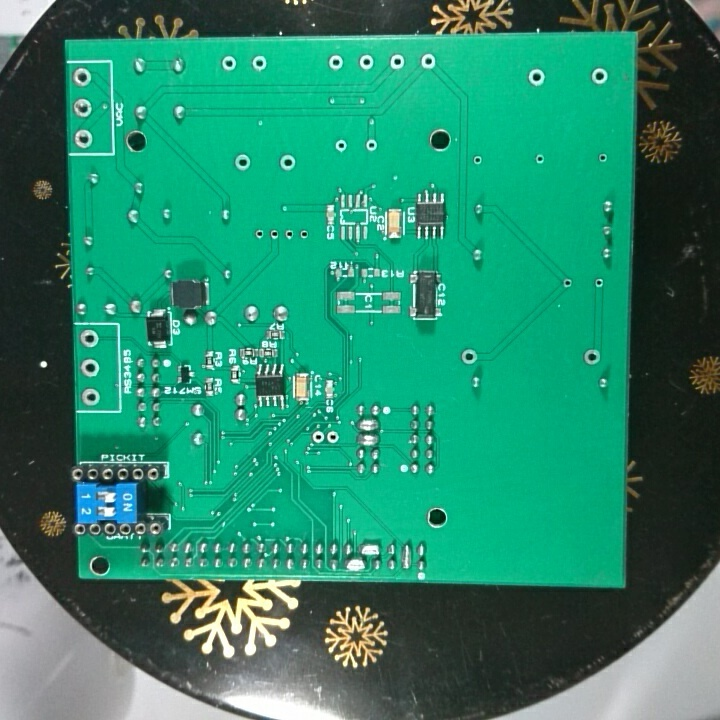F: (70, 64, 94, 89), (72, 126, 96, 151), (71, 95, 94, 121), (79, 385, 104, 408), (524, 66, 548, 89), (78, 327, 102, 350), (248, 52, 271, 75), (79, 355, 101, 379), (589, 64, 610, 89), (580, 346, 602, 369), (231, 151, 253, 174), (276, 152, 299, 174), (355, 52, 377, 73), (458, 346, 479, 367), (218, 52, 239, 73), (418, 50, 438, 72), (387, 51, 407, 73), (325, 52, 345, 73), (332, 136, 350, 155), (325, 428, 341, 449), (309, 428, 326, 447), (363, 137, 379, 155), (596, 149, 611, 166), (470, 152, 485, 169), (267, 226, 282, 243), (252, 226, 267, 243), (282, 225, 296, 243), (297, 226, 311, 243), (561, 275, 575, 291), (592, 275, 606, 290), (532, 151, 546, 166)
P: (397, 540, 414, 572), (353, 431, 383, 448), (354, 416, 385, 432), (342, 556, 368, 575), (357, 540, 382, 558)
